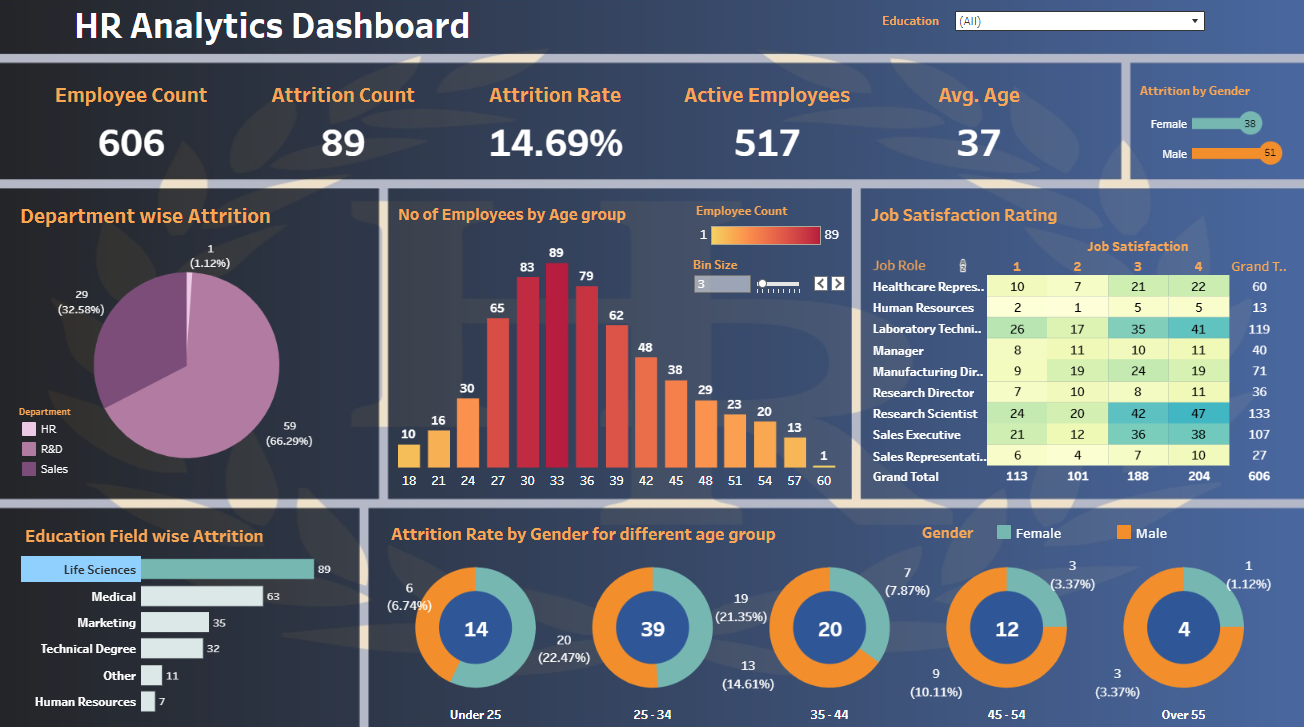

The page's visual inventory and layout, read from the dashboard file:
{"tool":"tableau","page":{"name":"HR Analytics Dashboard","canvas":[1000,1000],"units":"permille","ordinal":0},"visuals":[{"type":"image","param":"Image/HR background.png","box":[5.7,10,988.7,980]},{"type":"text","box":[78.7,24.9,393.6,64.8]},{"type":"filter","title":"Department wise Attrition","param":"[federated.15uea8j0poa3e317zyrvo1ws9047].[none:Education:nk]","box":[670.2,41.1,237.6,38.6]},{"type":"worksheet","title":"KPI","mark":"Automatic","box":[43.3,114.7,775.9,138.4]},{"type":"worksheet","title":"Attrition by Gender","mark":"Automatic","rows":["Gender"],"cols":["Calculation_1601029687647371264","Calculation_1601029687647371264"],"box":[856.7,124.7,110.6,121]},{"type":"worksheet","title":"Department wise Attrition","mark":"Pie","box":[36.9,281.8,249.7,386.5]},{"type":"worksheet","title":"No of Employees by Age group","mark":"Automatic","rows":["Employee Count"],"cols":["Age (bin)"],"box":[313.5,281.8,325.5,382.8]},{"type":"worksheet","title":"Job Satisfaction Rating","mark":"Square","rows":["Job Role"],"cols":["Job Satisfaction"],"box":[660.3,283,310.6,381.6]},{"type":"legend","title":"No of Employees by Age group","param":"[federated.15uea8j0poa3e317zyrvo1ws9047].[sum:Employee Count:qk]","box":[534.8,290.5,107.8,63.6]},{"type":"parameter","param":"[Parameters].[Parameter 1]","box":[531.9,359.1,113.5,63.6]},{"type":"legend","title":"Department wise Attrition","param":"[federated.15uea8j0poa3e317zyrvo1ws9047].[none:Department:nk]","box":[39,554.9,66,111]},{"type":"worksheet","title":"Attrition Rate by Gender for different age group","mark":"Pie","rows":["Calculation_1601029687810072580","Calculation_1601029687810072580"],"cols":["CF_age band"],"box":[308.5,698.2,647.5,270.6]},{"type":"worksheet","title":"Education Field wise Attrition","mark":"Automatic","rows":["Education Field"],"cols":["Calculation_1601029687647371264"],"box":[42.6,700.8,236.9,256.9]},{"type":"legend","title":"Attrition Rate by Gender for different age group","param":"[federated.15uea8j0poa3e317zyrvo1ws9047].[none:Gender:nk]","box":[700,707,234.8,29.9]}]}

Visuals, with their boxes on the dashboard's canvas, which has no fixed pixel size, in thousandths of its width and height (x1, y1, x2, y2). These are canvas units, not pixel positions in the 1304x727 screenshot, which may show the page scaled, cropped or inside an application window:
image: locate(6, 10, 994, 990)
text: locate(79, 25, 472, 90)
"Department wise Attrition" filter: locate(670, 41, 908, 80)
"KPI" worksheet: locate(43, 115, 819, 253)
"Attrition by Gender" worksheet: locate(857, 125, 967, 246)
"Department wise Attrition" worksheet (Pie marks): locate(37, 282, 287, 668)
"No of Employees by Age group" worksheet: locate(314, 282, 639, 665)
"Job Satisfaction Rating" worksheet (Square marks): locate(660, 283, 971, 665)
"No of Employees by Age group" legend: locate(535, 290, 643, 354)
parameter: locate(532, 359, 645, 423)
"Department wise Attrition" legend: locate(39, 555, 105, 666)
"Attrition Rate by Gender for different age group" worksheet (Pie marks): locate(308, 698, 956, 969)
"Education Field wise Attrition" worksheet: locate(43, 701, 280, 958)
"Attrition Rate by Gender for different age group" legend: locate(700, 707, 935, 737)
